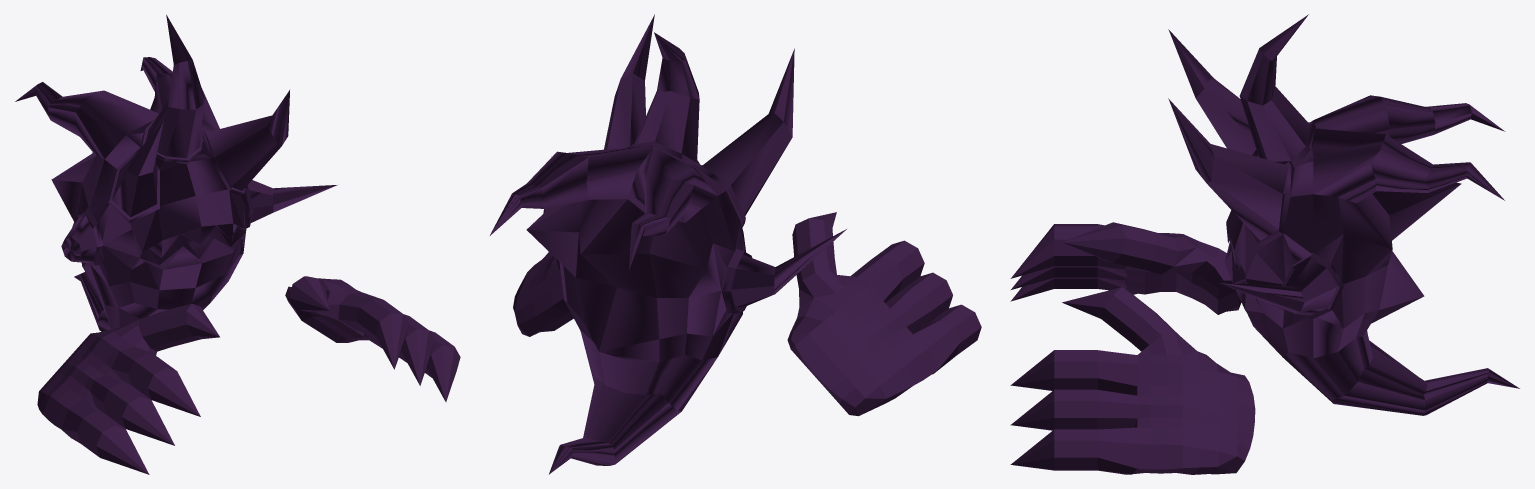
File: SHADOW_CREATURE_BIG(DEAD).fbx
3 views of the same model, side by side, from view 1: azimuth 30°, elevation 25°; view 2: azimuth 150°, elevation 25°; view 3: azimuth 270°, elevation 25° (orthographic). The views are drawn at different scales.
Visible parts, largest first — view 1: Sphere, Plane, Plane_2; view 2: Sphere, Plane, Plane_2; view 3: Sphere, Plane_2, Plane.
Part boxes in pixels (bbox=[...]): Sphere: bbox=[15, 14, 337, 331]; Plane: bbox=[37, 303, 219, 474]; Plane_2: bbox=[285, 276, 460, 401]; Sphere: bbox=[490, 14, 846, 474]; Plane: bbox=[787, 212, 981, 416]; Plane_2: bbox=[513, 252, 573, 336]; Sphere: bbox=[1168, 14, 1519, 415]; Plane_2: bbox=[1010, 287, 1255, 474]; Plane: bbox=[1010, 222, 1241, 314].
Size of the model in its own units: 638 by 589 by 685.
